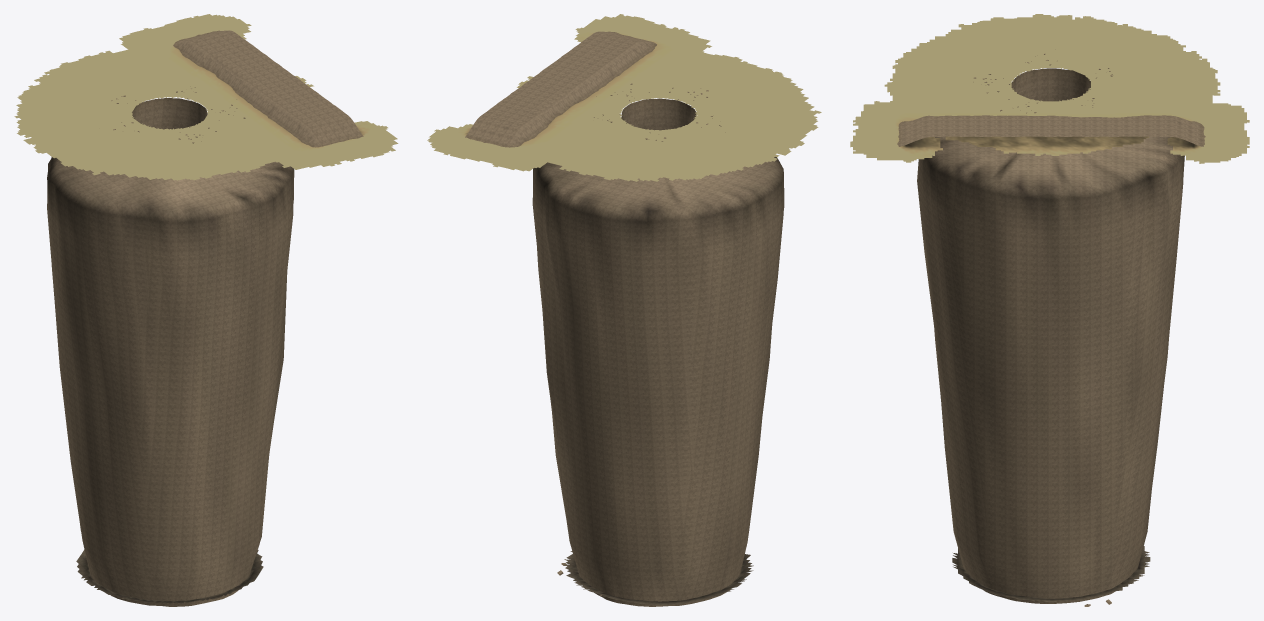
3 views of the same model, side by side, from view 1: azimuth 30°, elevation 25°; view 2: azimuth 150°, elevation 25°; view 3: azimuth 270°, elevation 25° (orthographic). The views are drawn at different scales.
Parts seen in each view (by area): view 1: hole_walls, sediment, cliff, hole_floor; view 2: hole_walls, sediment, cliff, hole_floor; view 3: hole_walls, sediment, cliff, hole_floor.
Boxes of the visible parts, <box> form: hole_walls: <box>47,98,294,606</box>; sediment: <box>14,14,398,180</box>; cliff: <box>173,30,363,147</box>; hole_floor: <box>76,549,263,603</box>; hole_walls: <box>532,98,784,606</box>; sediment: <box>427,14,821,181</box>; cliff: <box>465,31,656,147</box>; hole_floor: <box>563,551,753,605</box>; hole_walls: <box>917,68,1184,603</box>; sediment: <box>850,14,1249,163</box>; cliff: <box>897,115,1205,146</box>; hole_floor: <box>952,546,1150,601</box>.
Size of the model in its own units: 134 by 207 by 151.
2 materials, 1 textured.
